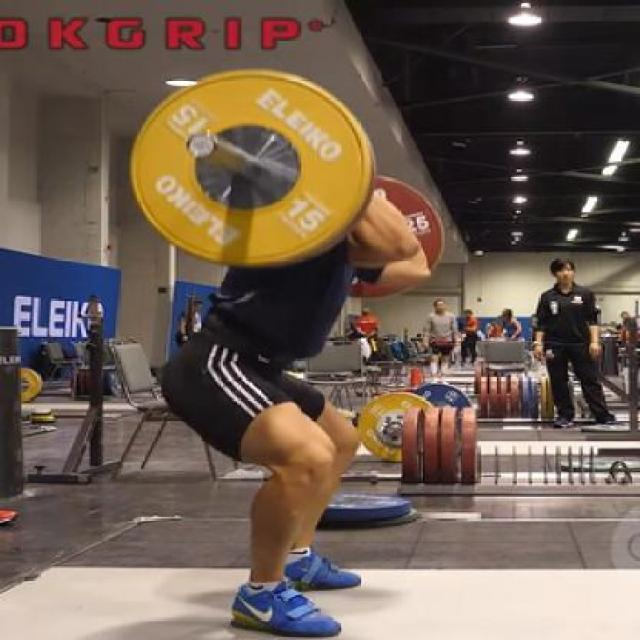barbell: (120, 65, 388, 279)
